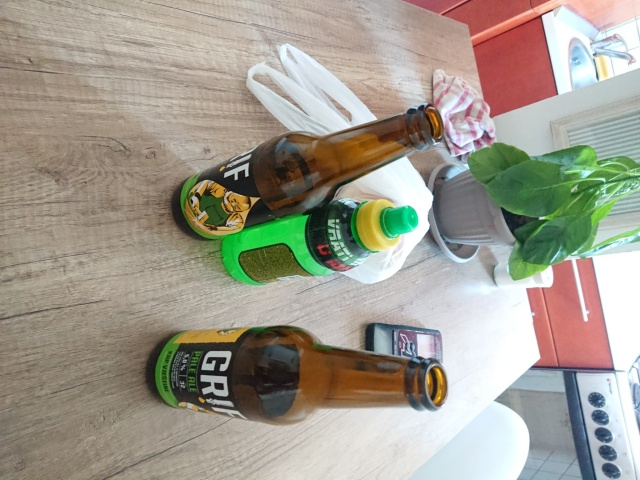Vindi Iso Sport Lemon-Grapefruit 500mL: (218, 195, 421, 289)
